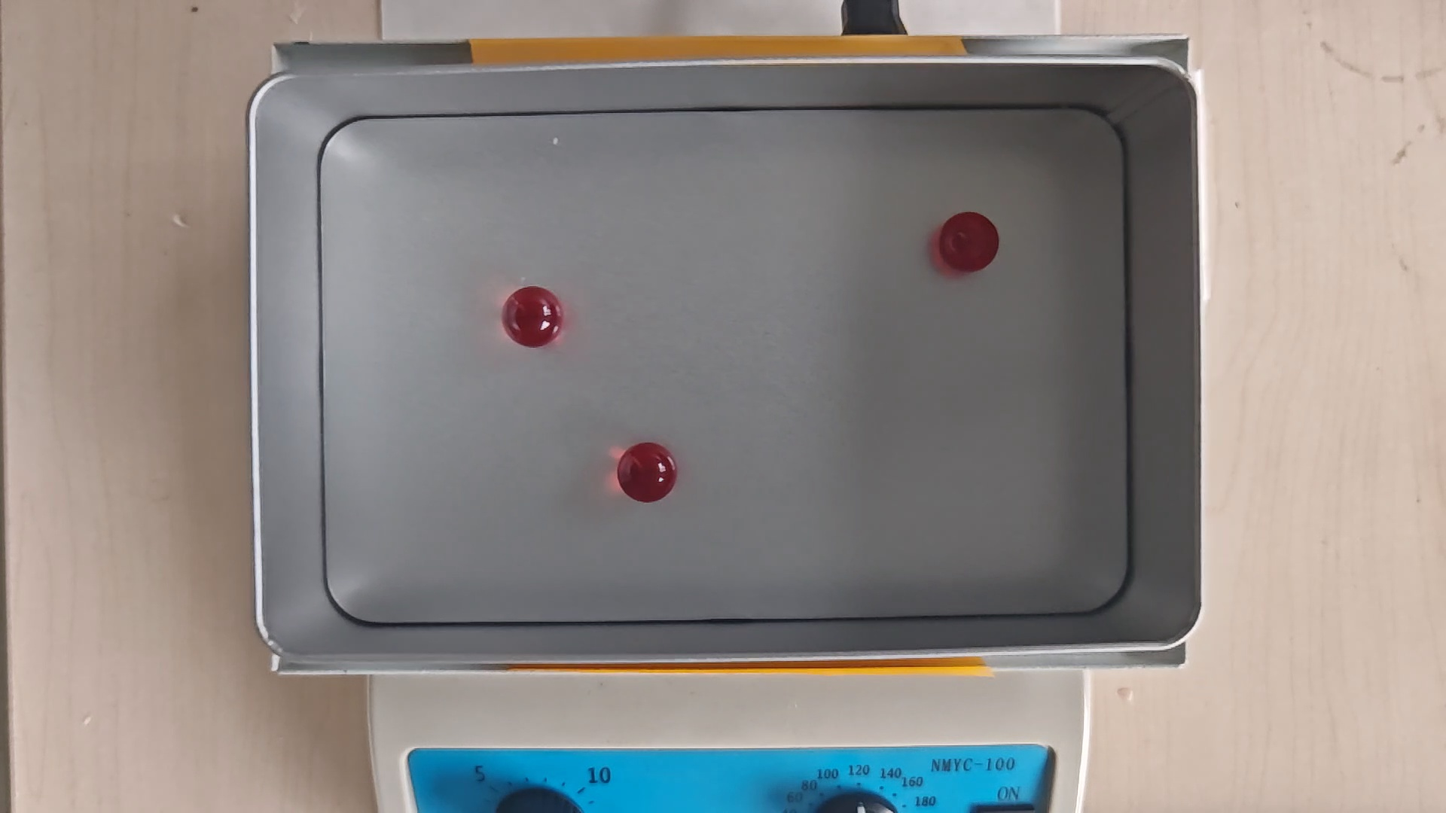ball: (503, 284, 563, 349), (619, 441, 676, 504), (941, 209, 998, 272)
container: (314, 110, 1135, 620)
